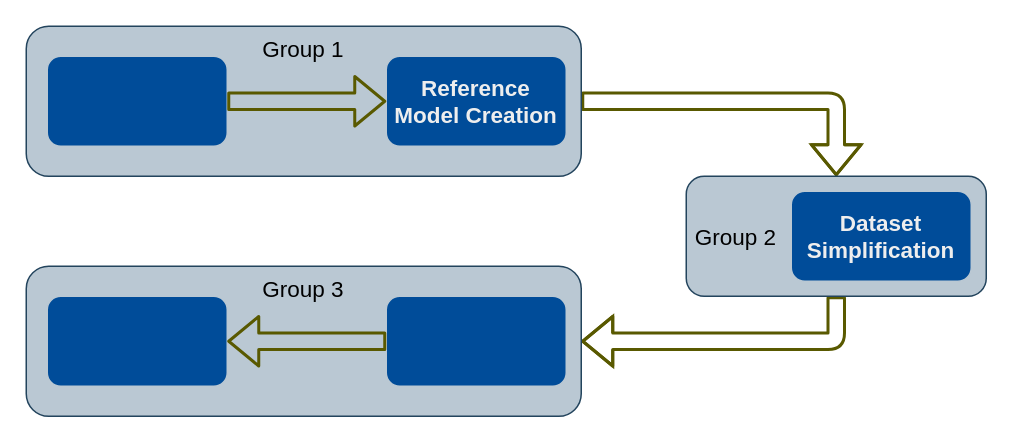
This 1013x443 diagram has some shape labels left out. Here are the shapes that lost their labels. From the top down, the centre of each, then its label:
the point at 136,100: Data Generation
the point at 136,340: Final Model
the point at 475,340: Implementing PINN
